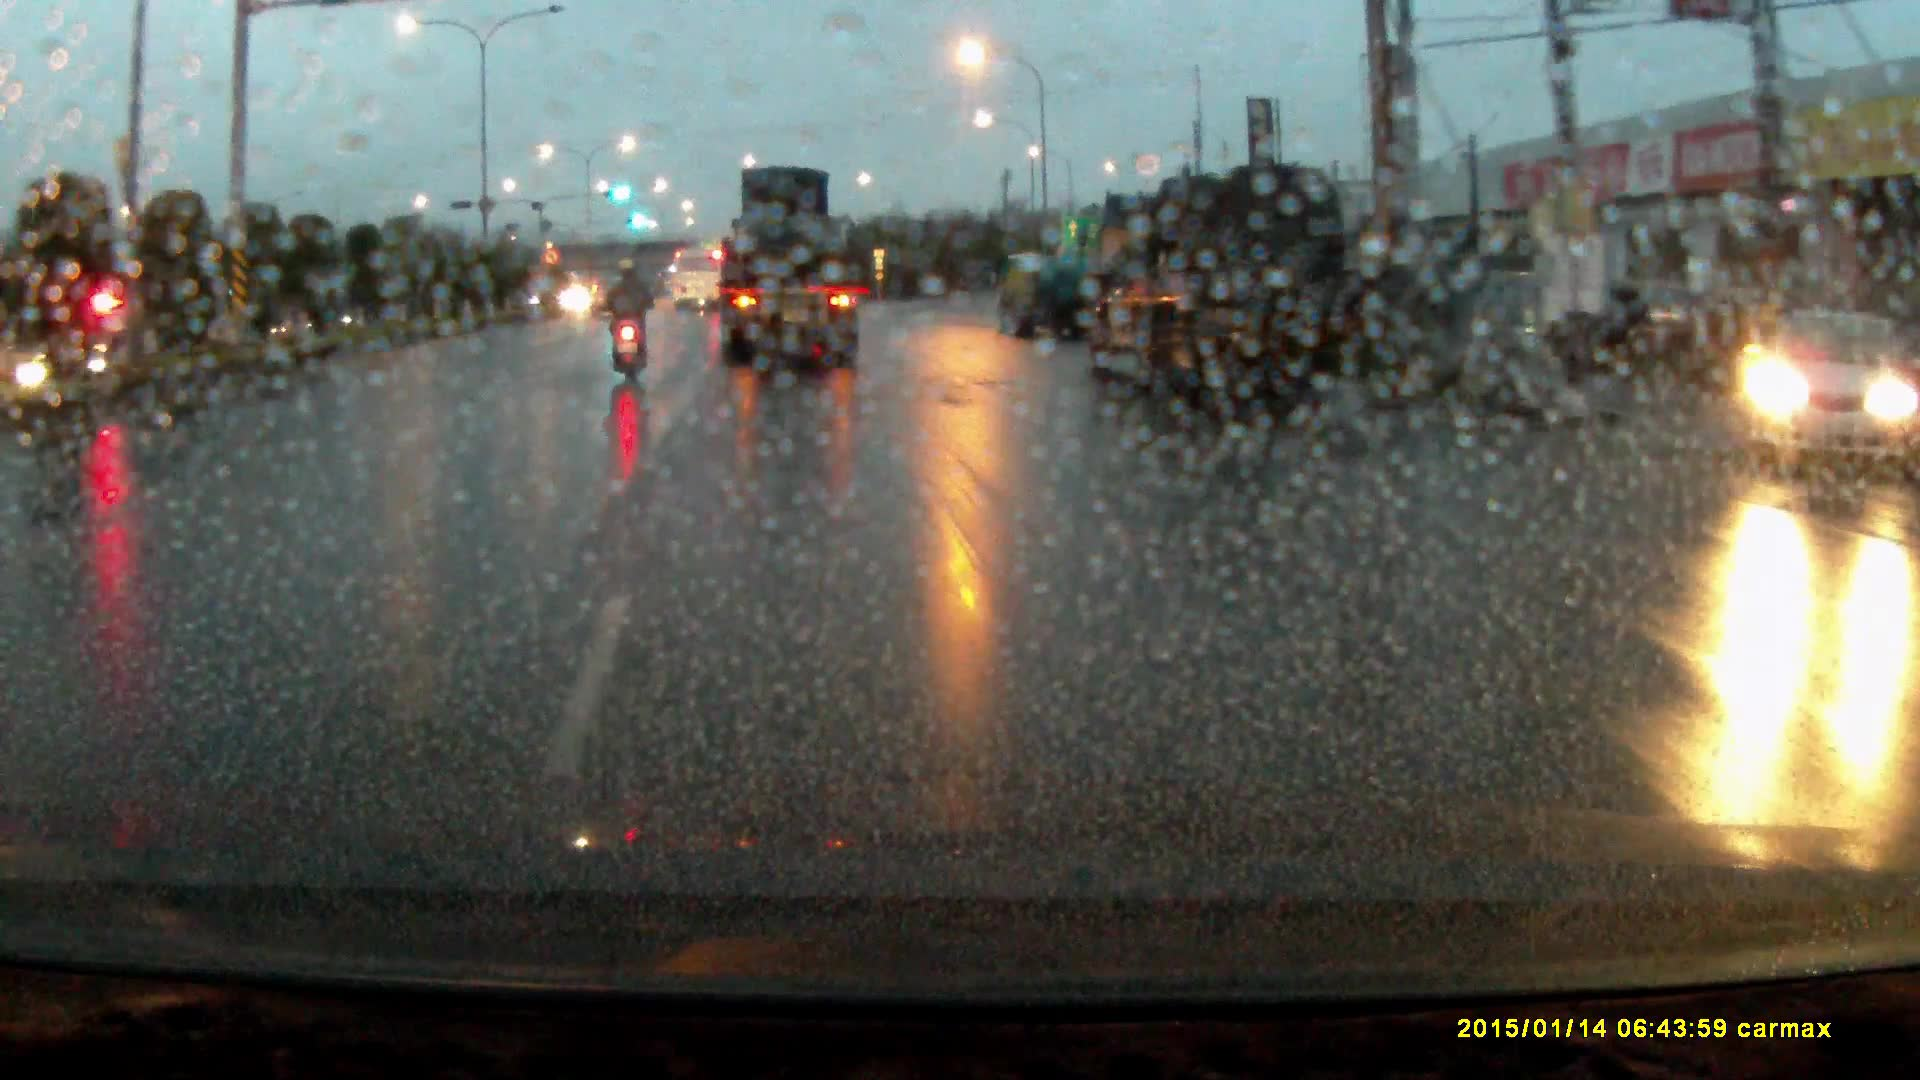rider: (605, 266, 659, 391)
vehicle: (1079, 174, 1352, 430), (719, 170, 860, 370), (1740, 311, 1908, 478), (995, 258, 1092, 346), (672, 255, 723, 319), (591, 283, 638, 326)
